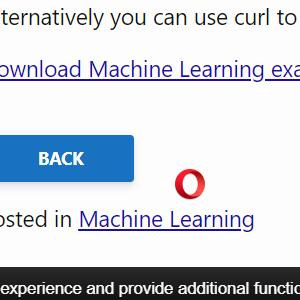opera: (175, 168, 205, 199)
